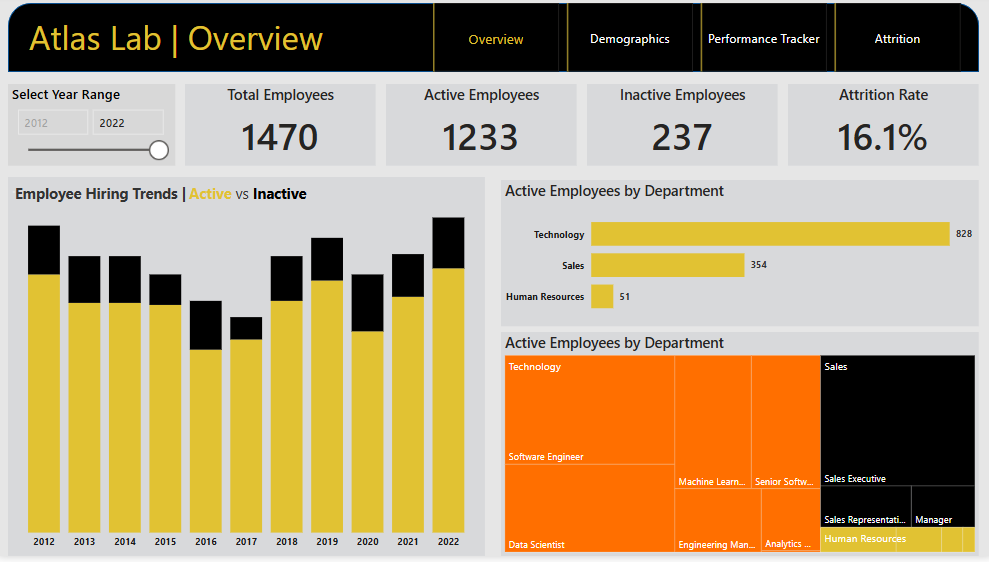

The page's visual inventory and layout, read from the dashboard file:
{"tool":"powerbi","page":{"name":"Overview","canvas":[1280,720],"ordinal":0},"visuals":[{"type":"shape","box":[14.1,9,1247.9,88.7],"z":0},{"type":"card","title":"Inactive Employees","fields":{"Values":["_Measures.InactiveEmployeesDate"]},"box":[758.2,113.1,245.5,105.4],"z":1000},{"type":"card","title":"Total Employees","fields":{"Values":["_Measures.TotalEmployeesDate"]},"box":[241.6,113.1,245.5,105.4],"z":2000},{"type":"card","title":"Active Employees","fields":{"Values":["_Measures.ActiveEmployeesDate"]},"box":[499.9,113.1,245.5,105.4],"z":3000},{"type":"card","title":"Attrition Rate","fields":{"Values":["_Measures.%AttritionRateDate"]},"box":[1016.5,113.1,245.5,105.4],"z":4000},{"type":"columnChart","title":".","fields":{"Y":["_Measures.TotalEmployeesDate"],"Category":["Dim_Date.Year"],"Series":["Dim_Employee.Attrition"]},"box":[14.1,232.6,613,487.1],"z":5000},{"type":"clusteredBarChart","title":"Active Employees by Department","fields":{"Category":["Dim_Employee.Department"],"Y":["_Measures.ActiveEmployeesDate"]},"box":[647.7,236.5,614.3,187.6],"z":6000},{"type":"treemap","title":"Active Employees by Department","fields":{"Group":["Dim_Employee.Department"],"Details":["Dim_Employee.JobRole"],"Values":["_Measures.ActiveEmployeesDate"]},"box":[647.7,431.8,614.3,287.9],"z":7000},{"type":"pageNavigator","box":[560.3,9,681.1,88.7],"z":8000},{"type":"textbox","box":[36,18,439.5,70.7],"z":9000},{"type":"textbox","box":[18,236.5,403.5,43.7],"z":10000},{"type":"slicer","title":"Select Year Range","fields":{"Values":["Dim_Date.Year"]},"box":[14.1,113.1,214.6,105.4],"z":11000}]}

Visuals, with their boxes in screenshot pixels (x1, y1, x2, y2), scaled from the page's 1280x720 canvas onto the 989x562 screenshot:
shape: 11 7 975 76
"Inactive Employees" card: 586 88 776 171
"Total Employees" card: 187 88 376 171
"Active Employees" card: 386 88 576 171
"Attrition Rate" card: 785 88 975 171
"." columnChart: 11 182 485 561
"Active Employees by Department" clusteredBarChart: 500 185 975 331
"Active Employees by Department" treemap: 500 337 975 561
pageNavigator: 433 7 959 76
textbox: 28 14 367 69
textbox: 14 185 326 219
"Select Year Range" slicer: 11 88 177 171
